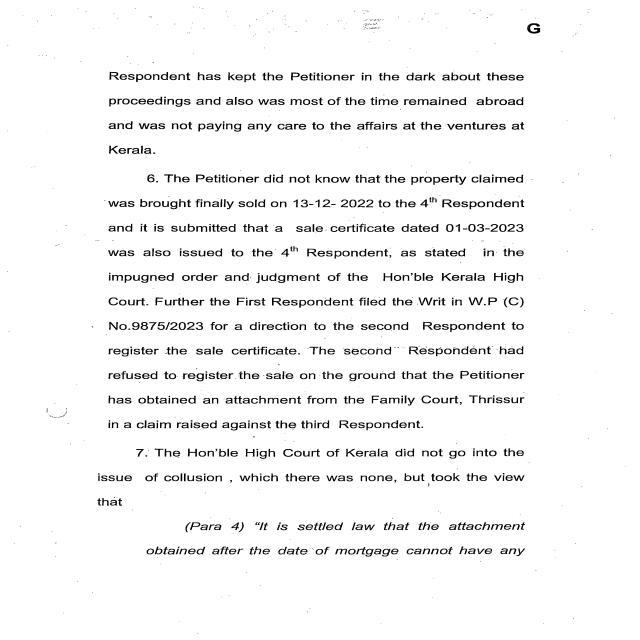page-number: (437, 0, 640, 70)
